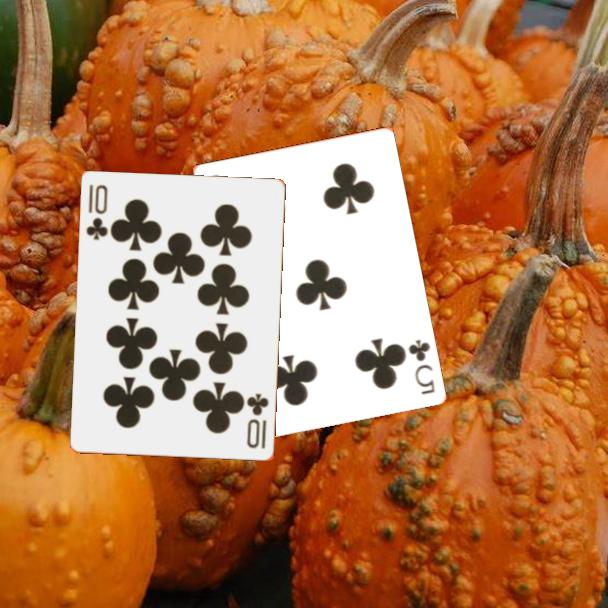c05: (404, 336, 437, 397)
c10: (244, 390, 272, 452), (83, 182, 111, 243)
